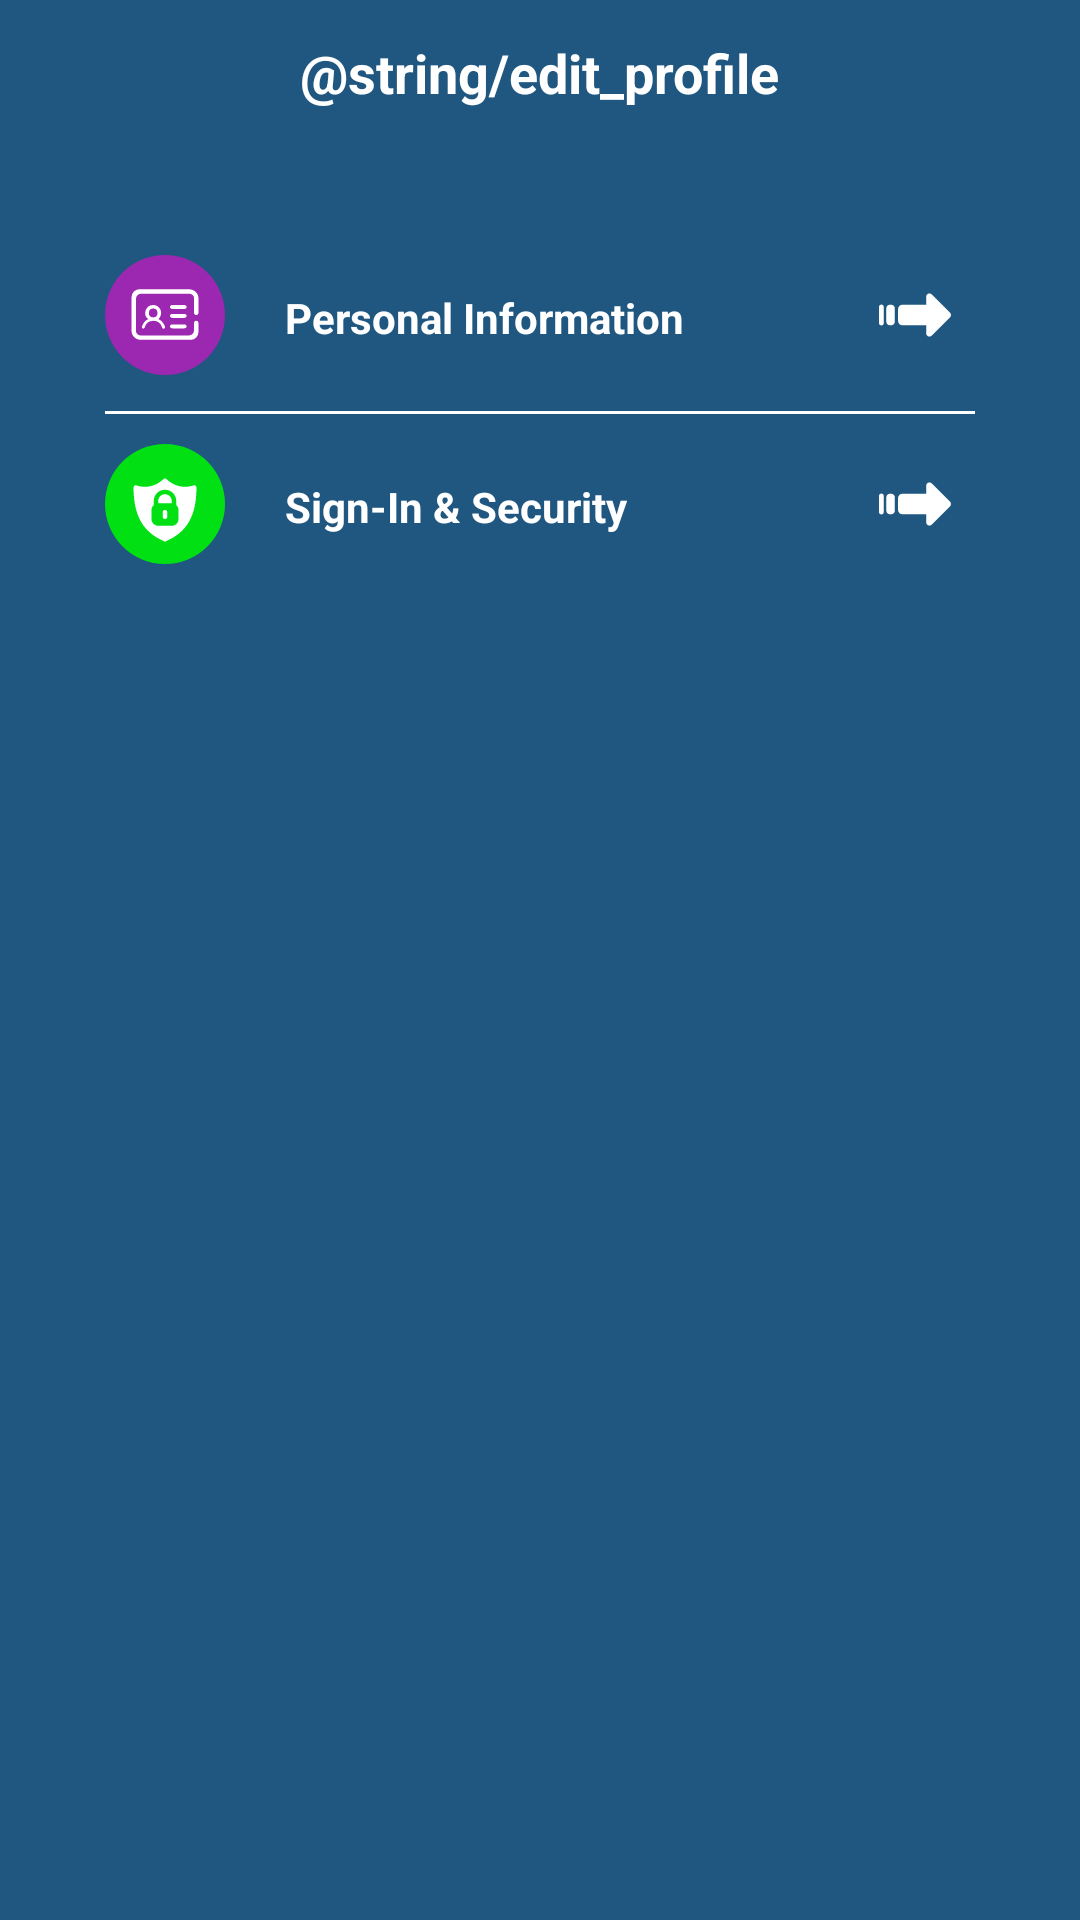

Screen size 1080 × 1920. Icon name, then its box in pixels as bbox(x1, y1, x2, y2):
forward arrow: bbox(879, 293, 951, 337), bbox(879, 482, 951, 526)
security badge: bbox(105, 450, 225, 564)
